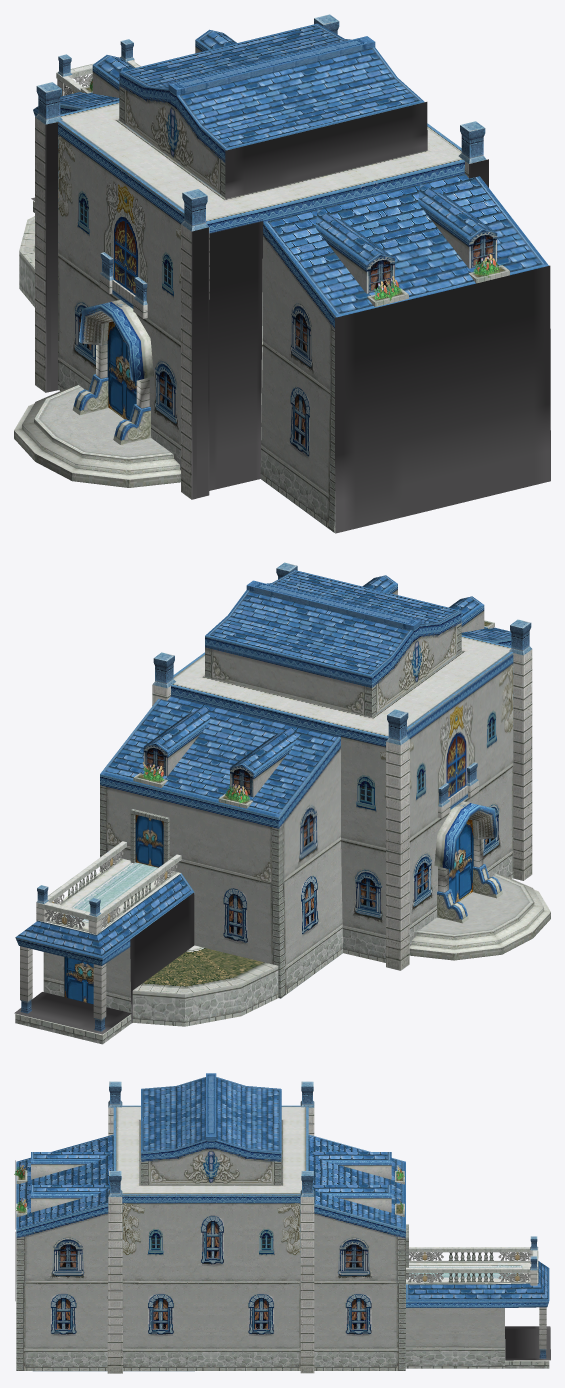
3 views of the same model, one above another, from view 1: azimuth 30°, elevation 25°; view 2: azimuth 150°, elevation 25°; view 3: azimuth 270°, elevation 25° (orthographic). The views are drawn at different scales.
Parts seen in each view (by area): view 1: geom_node_2, geom_node_0, geom_node_1, geom_node_3; view 2: geom_node_0, geom_node_3, geom_node_2, geom_node_1; view 3: geom_node_0, geom_node_2, geom_node_3.
Part boxes in pixels (x1=…): geom_node_2: x1=125, y1=47, x2=550, y2=533; geom_node_0: x1=35, y1=14, x2=375, y2=392; geom_node_1: x1=14, y1=252, x2=180, y2=487; geom_node_3: x1=19, y1=39, x2=140, y2=307; geom_node_0: x1=100, y1=580, x2=456, y2=998; geom_node_3: x1=14, y1=841, x2=278, y2=1044; geom_node_2: x1=267, y1=562, x2=532, y2=880; geom_node_1: x1=409, y1=762, x2=550, y2=960; geom_node_0: x1=206, y1=1073, x2=408, y2=1373; geom_node_2: x1=14, y1=1077, x2=211, y2=1373; geom_node_3: x1=405, y1=1236, x2=550, y2=1368.
Size of the model in its own units: 9.24 by 8.02 by 17.37.
Materials: 22 (22 with a texture image).
